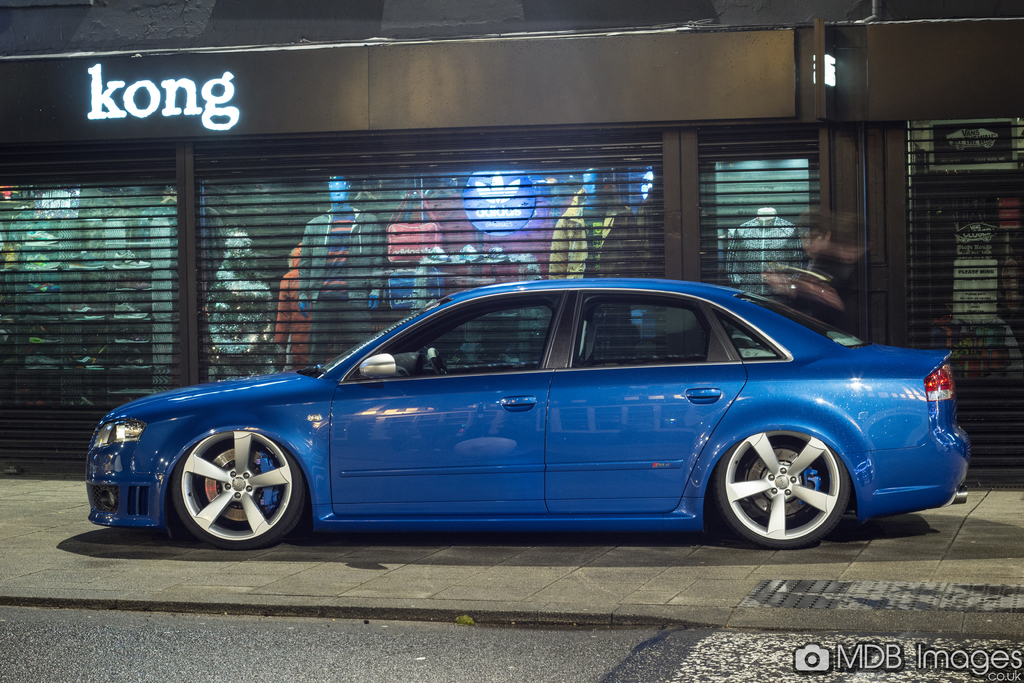Car: (81, 272, 976, 549)
